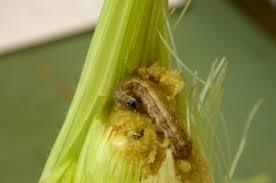fallarmy_worm: (110, 73, 202, 158)
